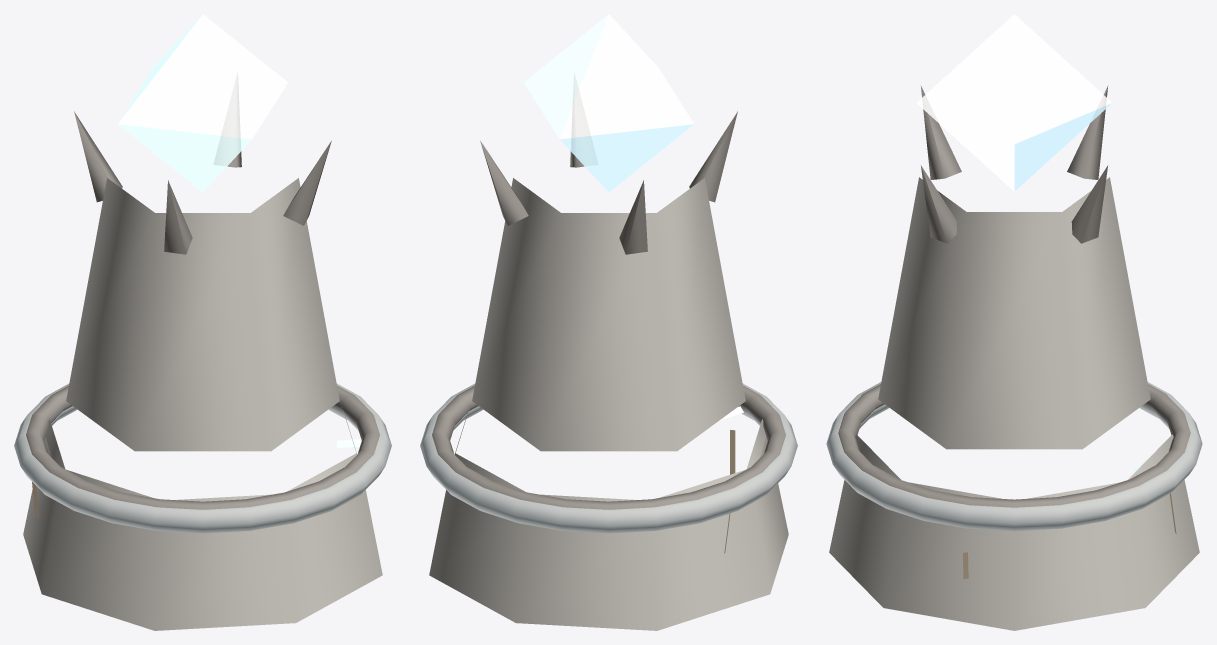
The model's file is tower_slow_1.glb.
3 views of the same model, side by side, from view 1: azimuth 30°, elevation 25°; view 2: azimuth 150°, elevation 25°; view 3: azimuth 270°, elevation 25° (orthographic).
Visible parts, largest first — view 1: turret, base; view 2: turret, base; view 3: turret, base.
Part boxes in pixels (box(x1,y1,x2,y2)): turret: box(66, 14, 339, 451); base: box(14, 383, 391, 630); turret: box(472, 14, 745, 451); base: box(420, 383, 797, 630); turret: box(878, 14, 1150, 449); base: box(826, 382, 1202, 630).
Bounding box in the file's own units: 2.76 × 4.36 × 2.76.
